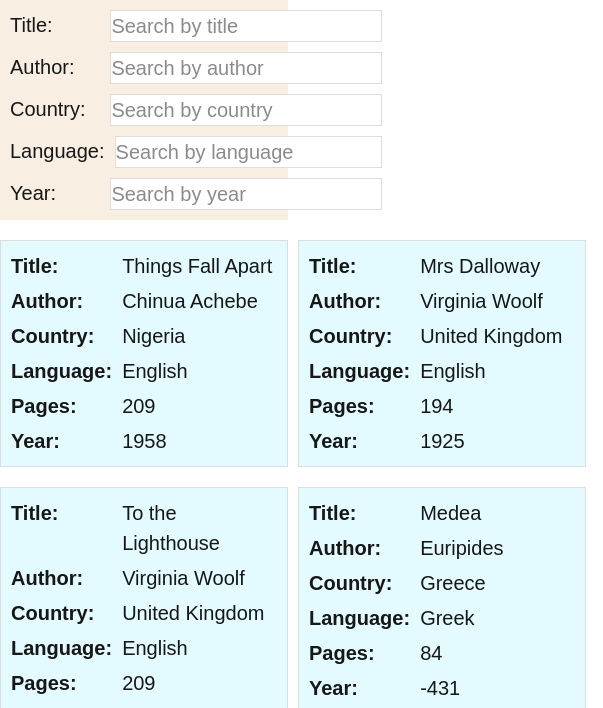
Scenario: BookSearch › filtering on multiple terms › filtering on terms that have no results › should filter books on the language and year get
This screenshot has width=603, height=708.
Type "190" into the field with test id "year" at (246, 194), box left=110, top=178, right=382, bottom=210
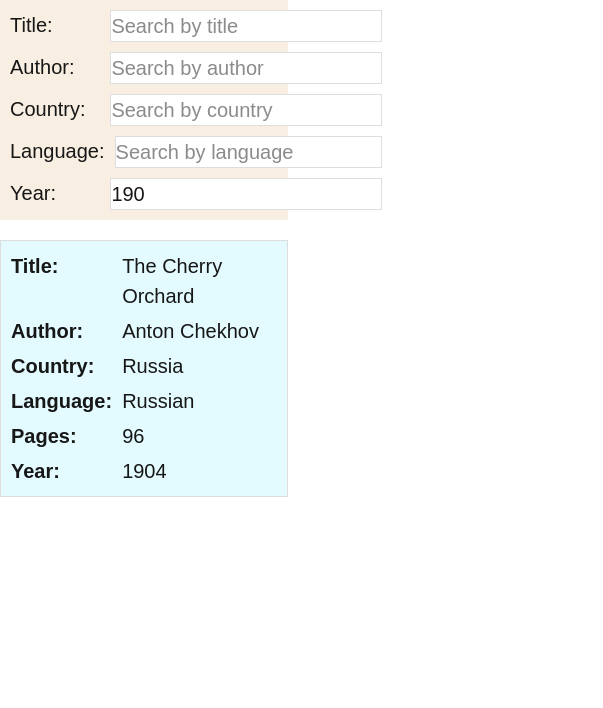
Type "spanish" into the field with test id "language" at (248, 152), box left=114, top=136, right=382, bottom=168
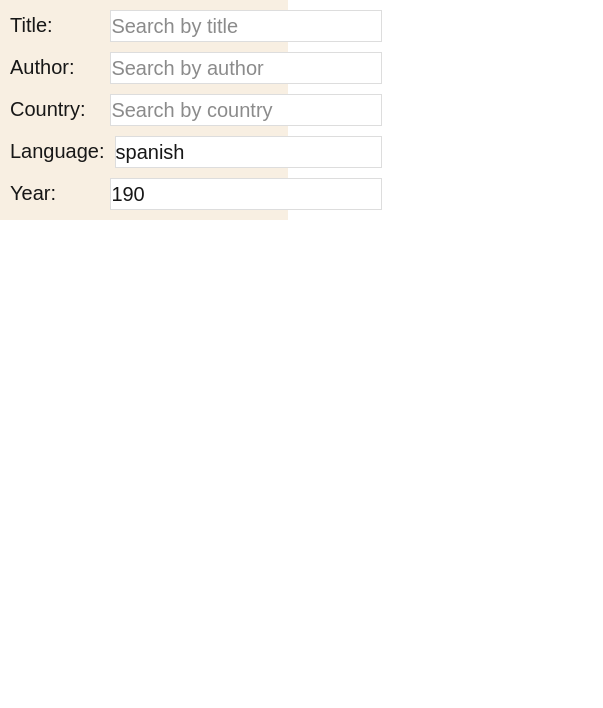
Now no elements with test id "book" are shown
